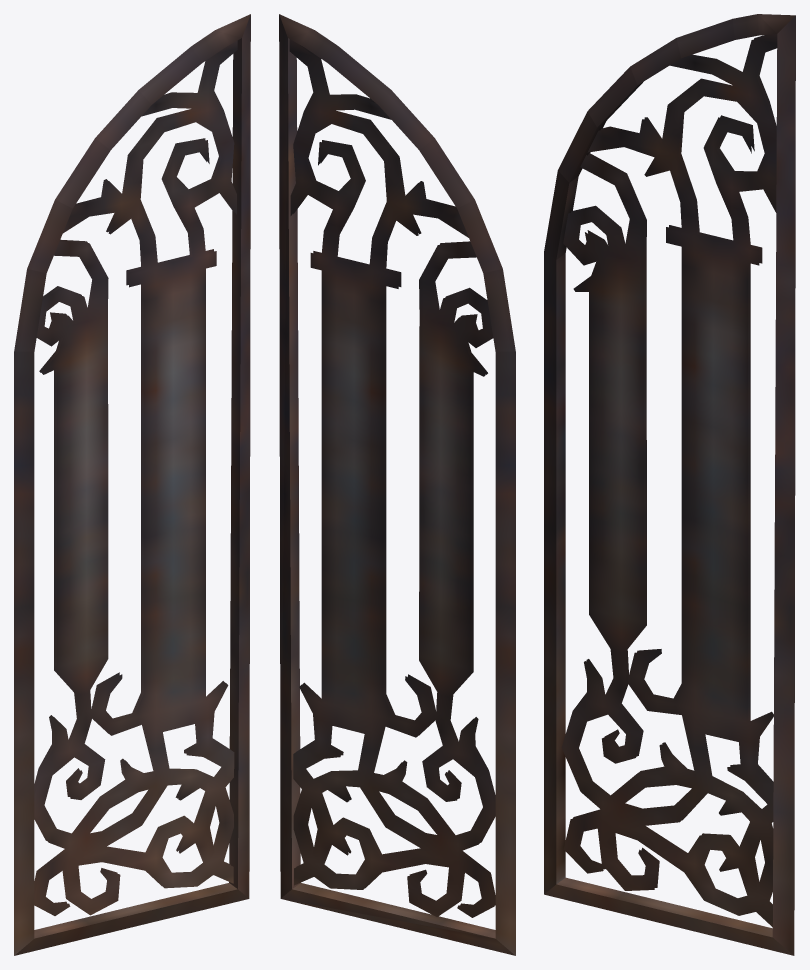
The model's file is SM_zhucheng_CastleArch_Iron_Gate_02.FBX.
3 views of the same model, side by side, from view 1: azimuth 30°, elevation 25°; view 2: azimuth 150°, elevation 25°; view 3: azimuth 330°, elevation 25° (orthographic). The views are drawn at different scales.
Parts seen in each view (by area): view 1: SM_zhucheng_CastleArch_Iron_Gate_02; view 2: SM_zhucheng_CastleArch_Iron_Gate_02; view 3: SM_zhucheng_CastleArch_Iron_Gate_02.
Part boxes in pixels (left/top/right/bottom): SM_zhucheng_CastleArch_Iron_Gate_02: left=14, top=14, right=250, bottom=955; SM_zhucheng_CastleArch_Iron_Gate_02: left=279, top=14, right=515, bottom=955; SM_zhucheng_CastleArch_Iron_Gate_02: left=544, top=14, right=795, bottom=955.
Bounding box in the file's own units: 33.59 × 120 × 2.16.
